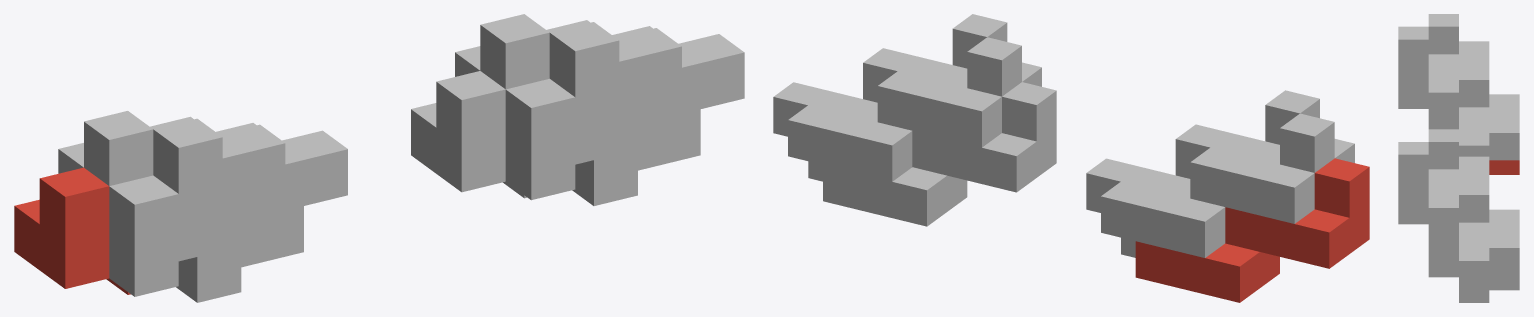
The model's file is tiling.obj.
3 views of the same model, side by side, from view 1: azimuth 30°, elevation 25°; view 2: azimuth 150°, elevation 25°; view 3: azimuth 270°, elevation 25° (orthographic). The views are drawn at different scales.
Visible parts, largest first — view 1: copy_1_domain_4, copy_1_domain_8, copy_1_domain_6, copy_1_domain_2, copy_1_domain_1, copy_1_domain_5, copy_1_domain_3, copy_1_domain_7; view 2: copy_1_domain_3, copy_1_domain_7, copy_1_domain_1, copy_1_domain_5, copy_1_domain_8, copy_1_domain_4, copy_1_domain_2, copy_1_domain_6; view 3: copy_1_domain_8, copy_1_domain_4, copy_1_domain_3, copy_1_domain_7, copy_1_domain_6, copy_1_domain_5, copy_1_domain_1, copy_1_domain_2.
Boxes of the visible parts, x1,y1,x2,y2 form: copy_1_domain_4: (153, 118, 347, 245); copy_1_domain_8: (549, 22, 744, 149); copy_1_domain_6: (505, 78, 700, 205); copy_1_domain_2: (109, 175, 303, 302); copy_1_domain_1: (14, 167, 130, 294); copy_1_domain_5: (411, 71, 526, 198); copy_1_domain_3: (58, 111, 256, 185); copy_1_domain_7: (455, 14, 652, 89); copy_1_domain_3: (1101, 113, 1334, 257); copy_1_domain_7: (788, 37, 1021, 181); copy_1_domain_1: (1135, 158, 1369, 302); copy_1_domain_5: (823, 82, 1056, 226); copy_1_domain_8: (773, 14, 1007, 136); copy_1_domain_4: (1086, 90, 1319, 212); copy_1_domain_2: (1121, 139, 1354, 257); copy_1_domain_6: (808, 62, 1041, 181); copy_1_domain_8: (1398, 142, 1489, 288); copy_1_domain_4: (1398, 26, 1489, 156); copy_1_domain_3: (1428, 14, 1519, 160); copy_1_domain_7: (1428, 129, 1519, 275); copy_1_domain_6: (1398, 209, 1489, 302); copy_1_domain_5: (1489, 275, 1519, 290); copy_1_domain_1: (1489, 160, 1519, 174); copy_1_domain_2: (1398, 94, 1428, 108).
Bounding box in the file's own units: 16 × 4 × 4.
